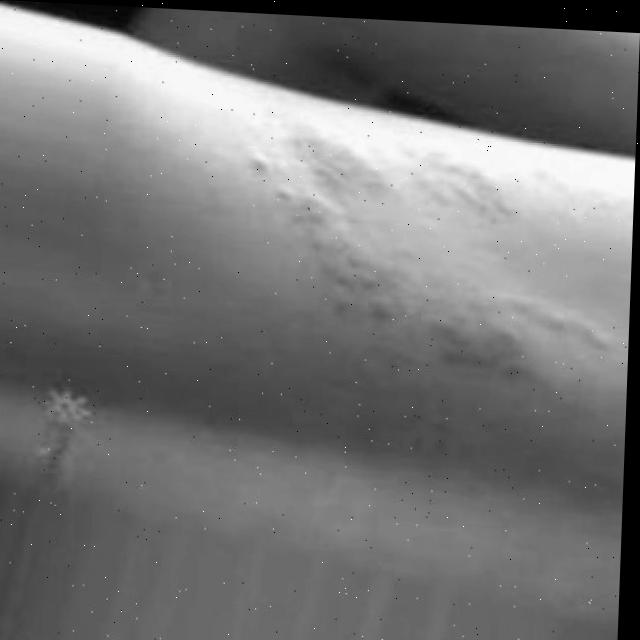Shingles: (252, 116, 569, 462)
